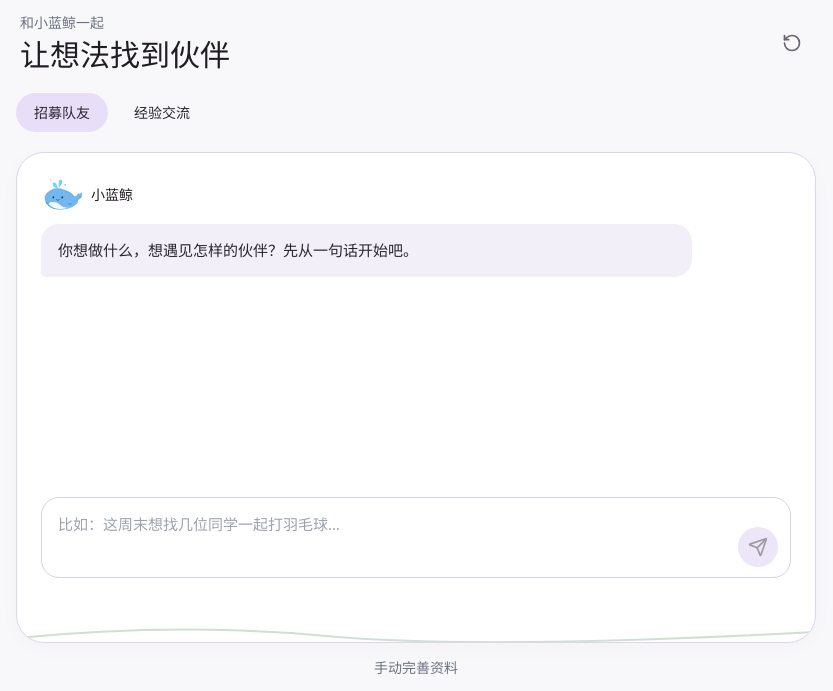
conversational publishing › keeps a one-click AI retry after a degraded response
The image size is (833, 691).
Type "周末想打羽毛球" into the text box named "描述你的想法" at (392, 538), box top-left (58, 508), bottom-right (726, 567)
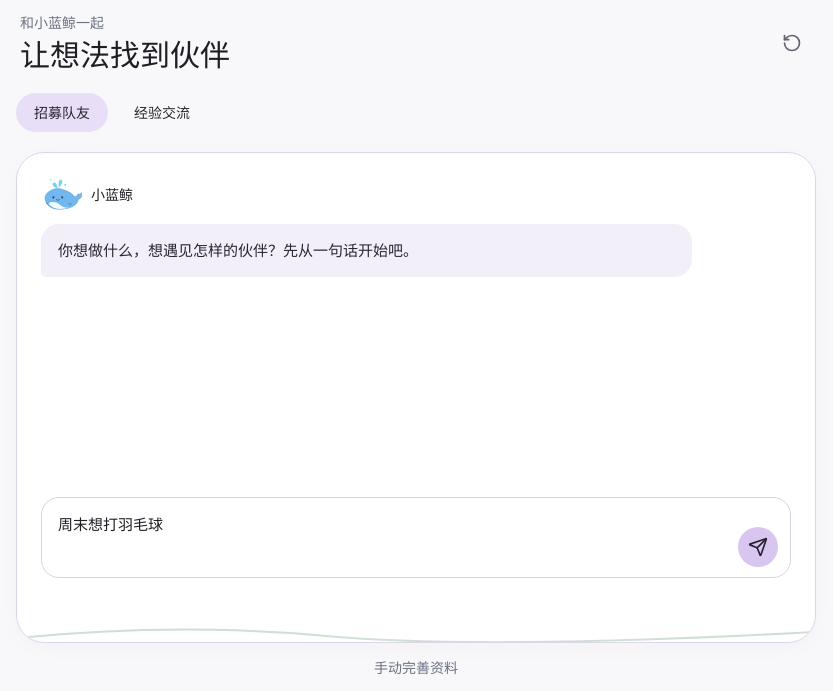
Click the button named "发送" at (758, 547), box top-left (738, 527), bottom-right (778, 567)
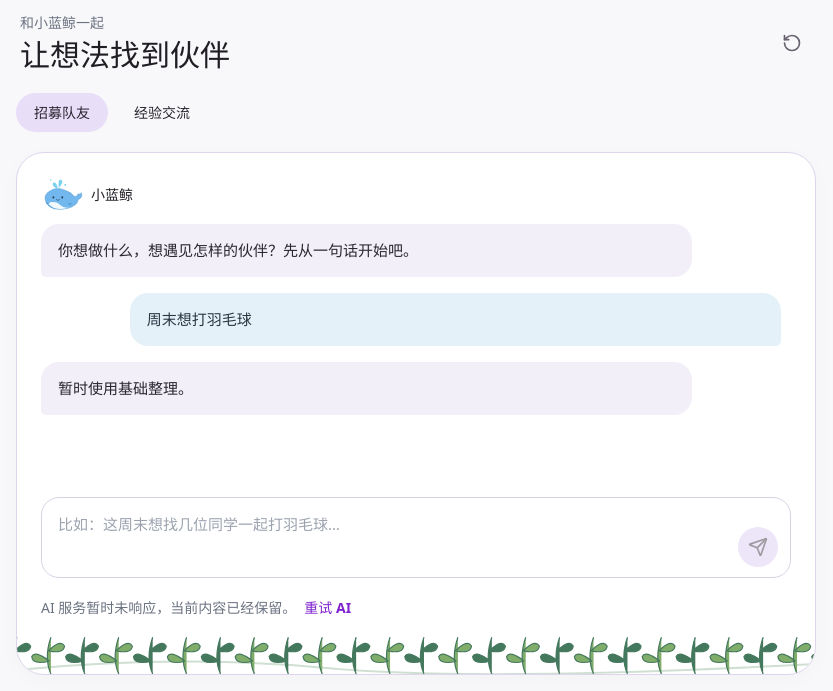
Click the button "重试 AI" at (328, 608), box top-left (304, 598), bottom-right (351, 618)
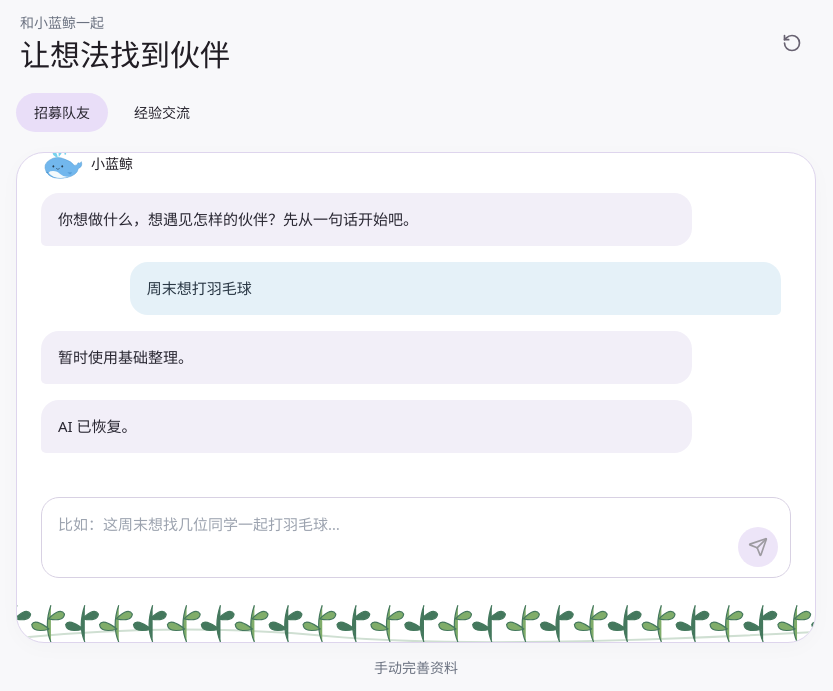
Expected: the text "周末想打羽毛球" is shown once, top-left (130, 262), bottom-right (781, 316)
